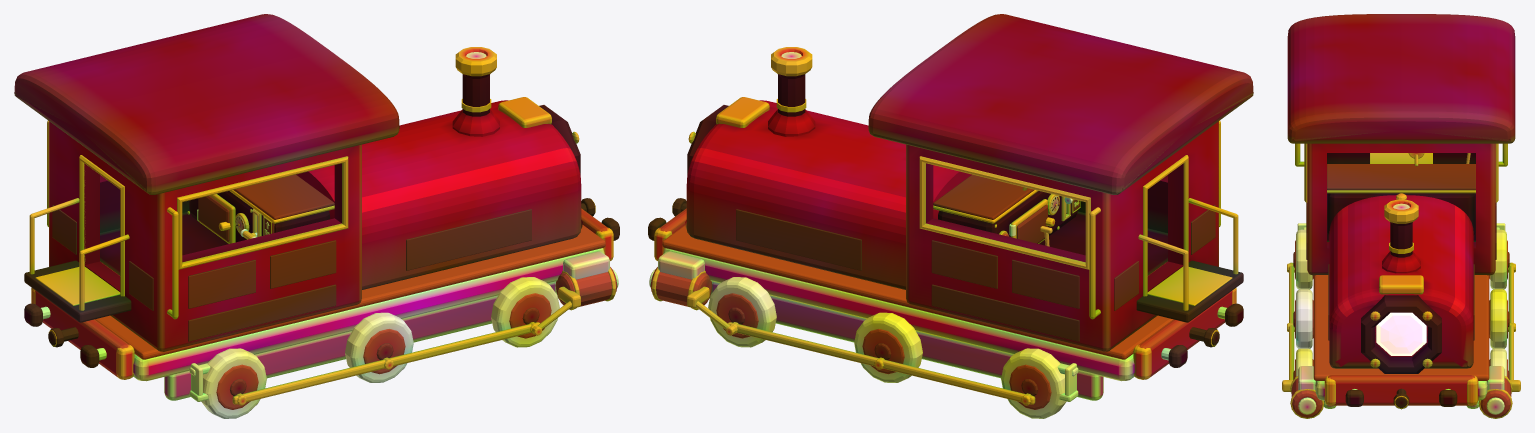
The model's file is Locomotive_Blockout.fbx.
3 renders of one model, left to right at view 1: azimuth 30°, elevation 25°; view 2: azimuth 150°, elevation 25°; view 3: azimuth 270°, elevation 25°, orthographic. The views are drawn at different scales.
Parts seen in each view (by area): view 1: CabRoof, Cab, Boiler, Frame, Wheels, Firebox, Cylinders, FireboxDoor, GrabRails, HeadLight; view 2: CabRoof, Cab, Boiler, Frame, Wheels, Firebox, Cylinders, FireboxDoor, GrabRails, HeadLight; view 3: CabRoof, Boiler, Frame, Cab, Firebox, Wheels, HeadLight, Cylinders, GrabRails, Coupler_Front.
Part boxes in pixels (x1,y1,x2,y2): CabRoof: (14,14,399,194); Cab: (49,121,361,351); Boiler: (296,47,582,289); Frame: (24,198,619,401); Wheels: (201,277,559,418); Firebox: (187,174,334,242); Cylinders: (537,251,618,329); FireboxDoor: (197,194,235,243); GrabRails: (47,120,178,319); HeadLight: (539,105,580,174); CabRoof: (868,14,1253,194); Cab: (906,121,1218,351); Boiler: (685,47,971,289); Frame: (648,198,1243,401); Wheels: (708,277,1066,418); Firebox: (933,174,1080,236); Cylinders: (649,251,730,329); FireboxDoor: (1009,199,1047,243); GrabRails: (1089,120,1220,319); HeadLight: (687,105,728,174); CabRoof: (1287,14,1515,143); Boiler: (1328,193,1474,368); Frame: (1297,153,1505,408); Cab: (1304,143,1498,275); Firebox: (1327,153,1475,235); Wheels: (1287,229,1515,379); HeadLight: (1361,295,1441,373); Cylinders: (1282,366,1520,418); GrabRails: (1295,143,1507,166); Coupler_Front: (1393,388,1409,409).
Bounding box in the file's own units: 6.89 × 3.48 × 3.17.
